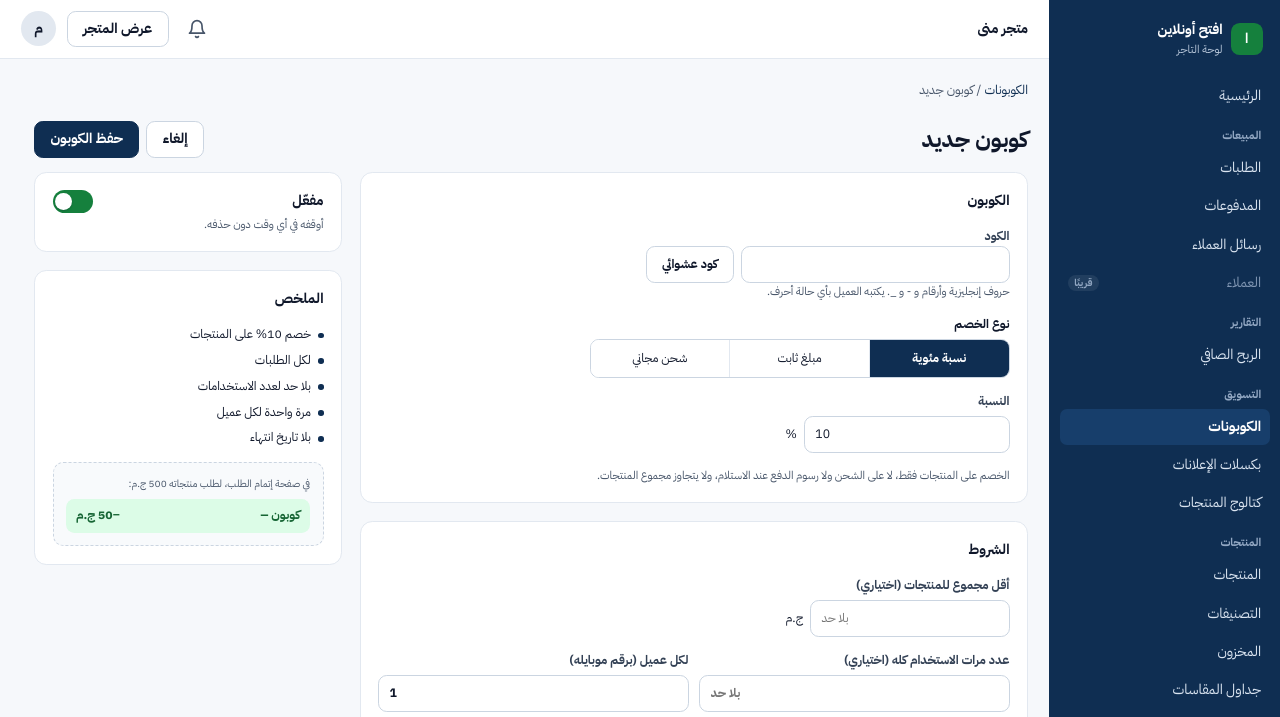
Test: CouponEditor › makes a fixed coupon with terms and dates in the store's time zone
Type "eid-50" into the field labelled "الكود" at [875, 264], box [741, 246, 1010, 283]
Click the button "مبلغ ثابت" at [800, 358], box [730, 340, 870, 377]
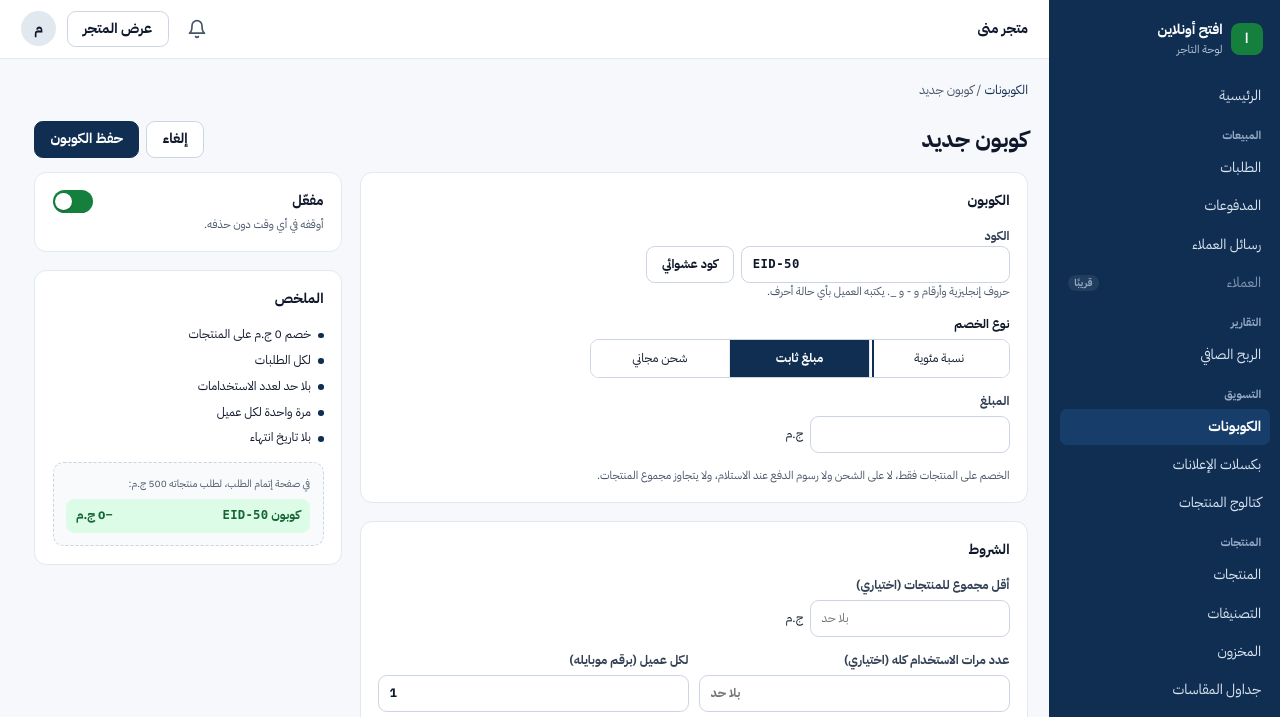
Type "50" into the field labelled "المبلغ" at [910, 435], box [810, 416, 1010, 453]
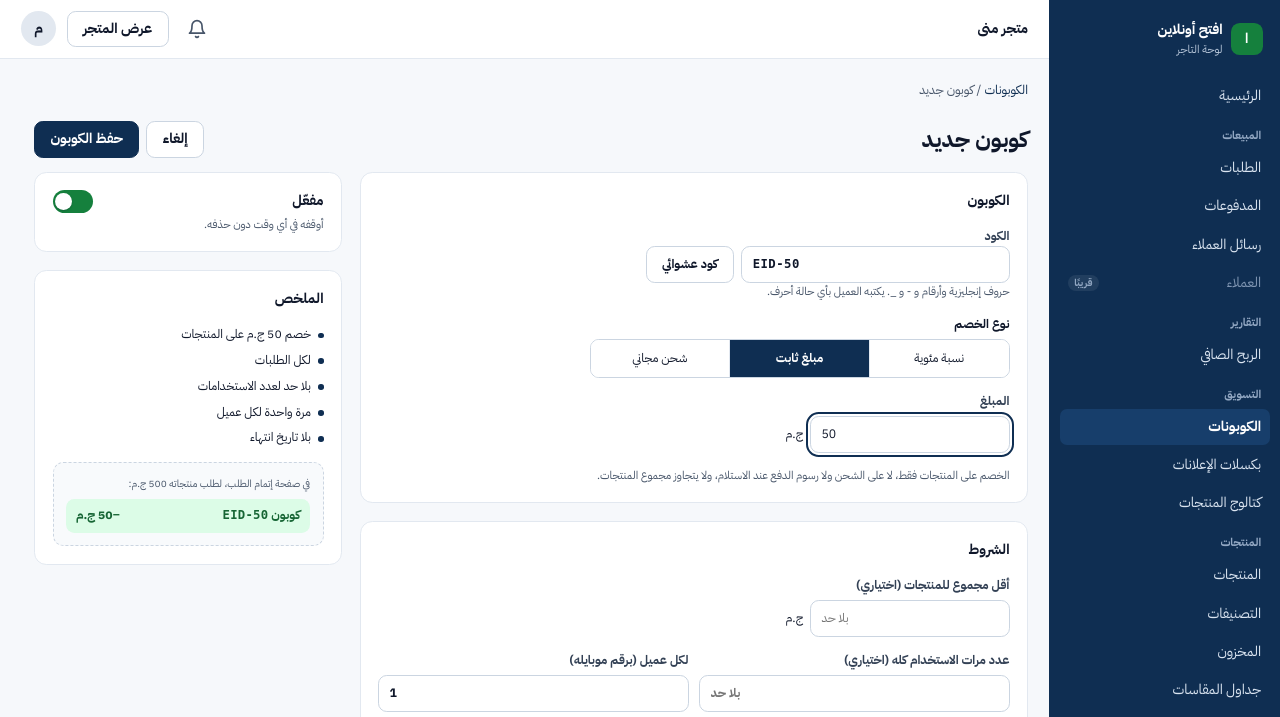
Type "300" into the field labelled "أقل مجموع للمنتجات (اختياري)" at [910, 619], box [810, 600, 1010, 637]
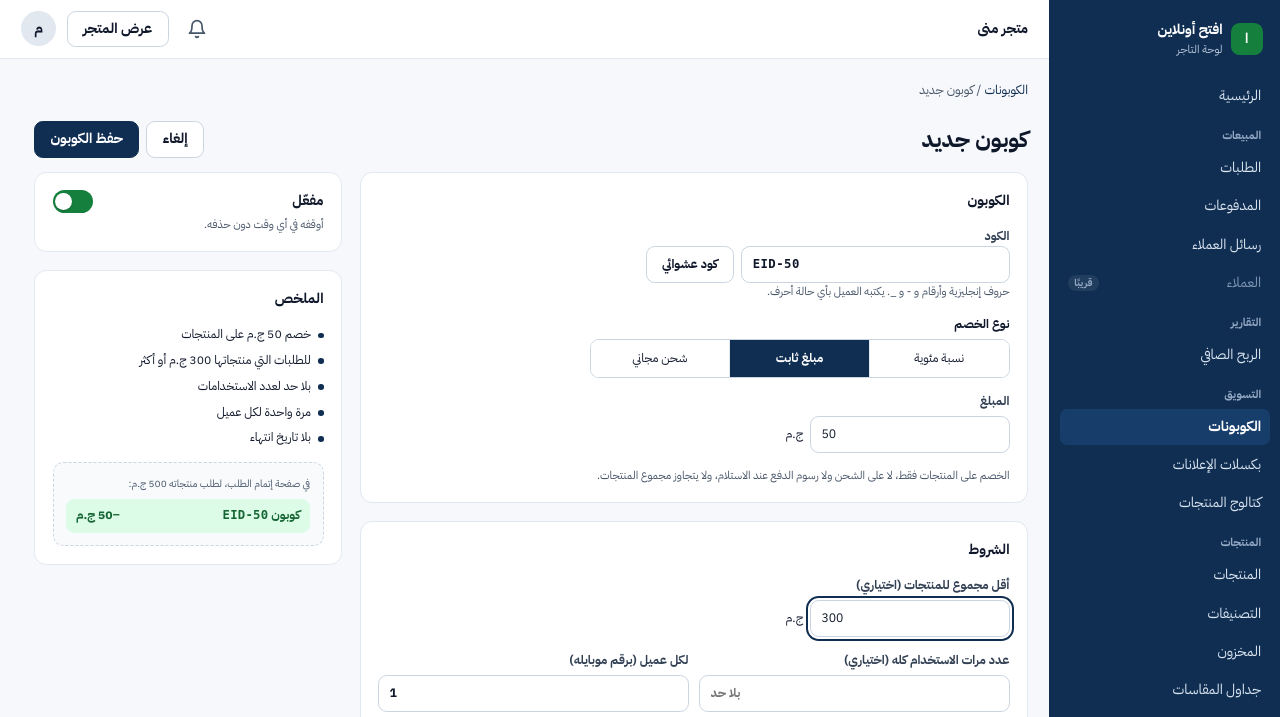
Type "100" into the number field labelled "عدد مرات الاستخدام كله (اختياري)" at [854, 694], box [699, 675, 1010, 712]
(page scrolled)
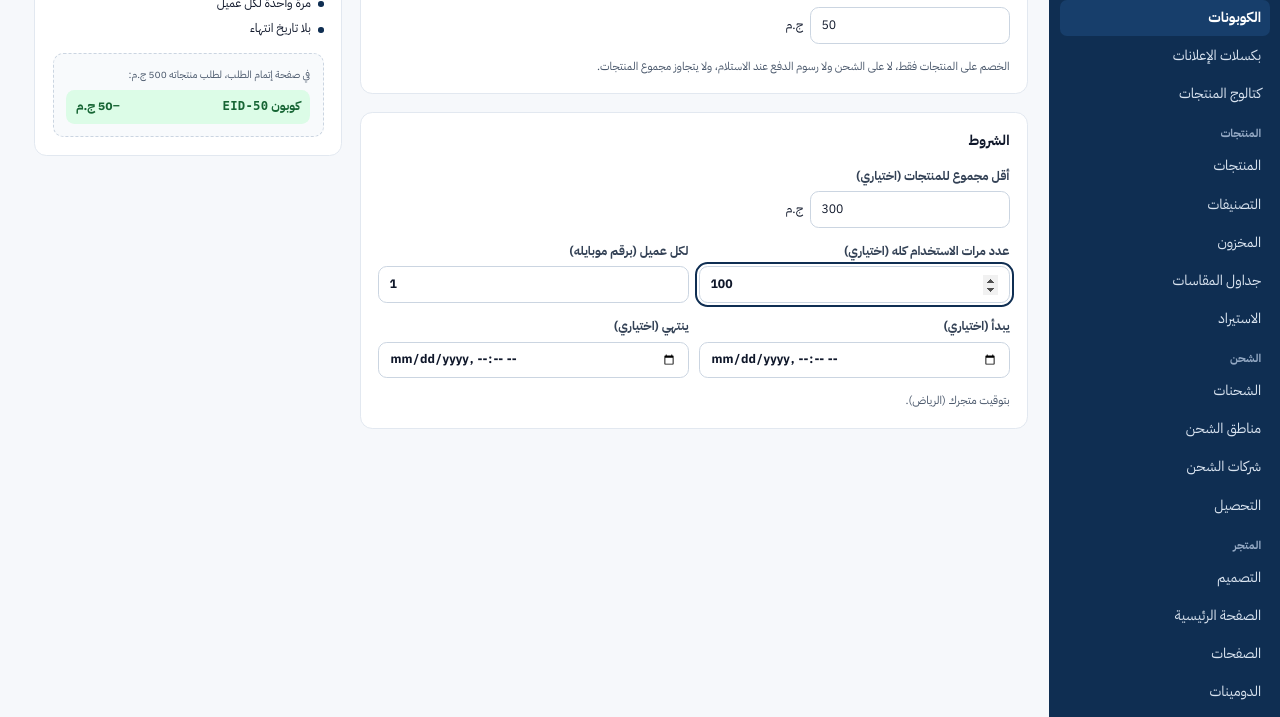
Type "2026-11-15T23:59" into the field labelled "ينتهي (اختياري)" at [533, 360], box [378, 342, 688, 378]
(page scrolled)
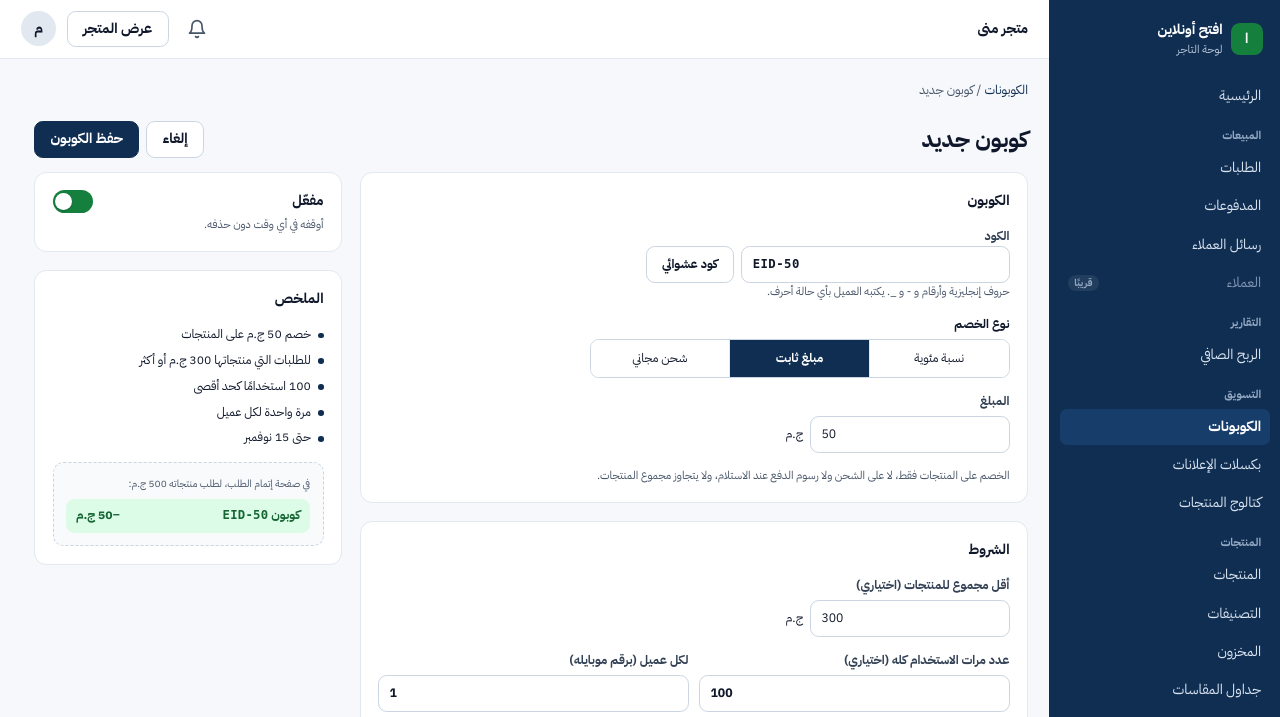
expect the list item "خصم 50 ج.م على المنتجات" is shown: met, box [181, 325, 311, 343]
expect the list item "للطلبات التي منتجاتها 300 ج.م أو أكثر" is shown: met, box [139, 351, 311, 369]
expect the list item "100 استخدامًا كحد أقصى" is shown: met, box [193, 377, 311, 395]
Click the button "حفظ الكوبون" at [87, 139], box [34, 121, 139, 158]
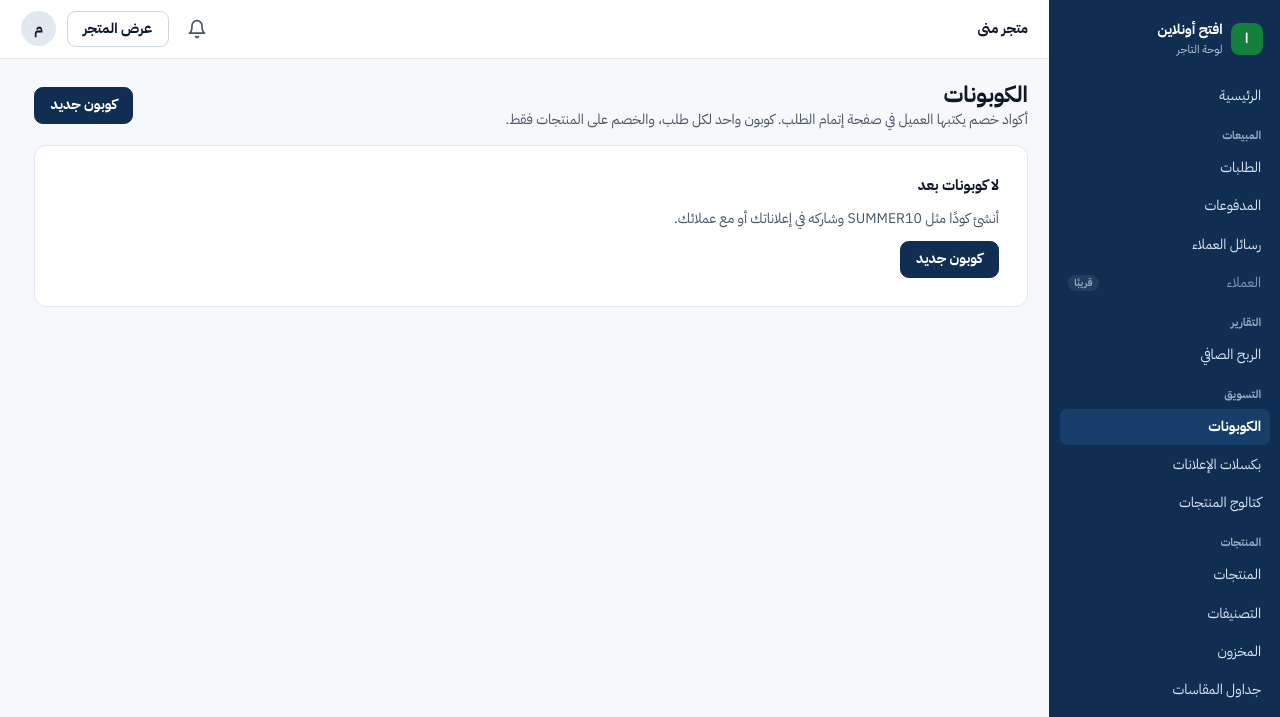
expect the heading "الكوبونات" is shown: met, box [944, 78, 1028, 111]
